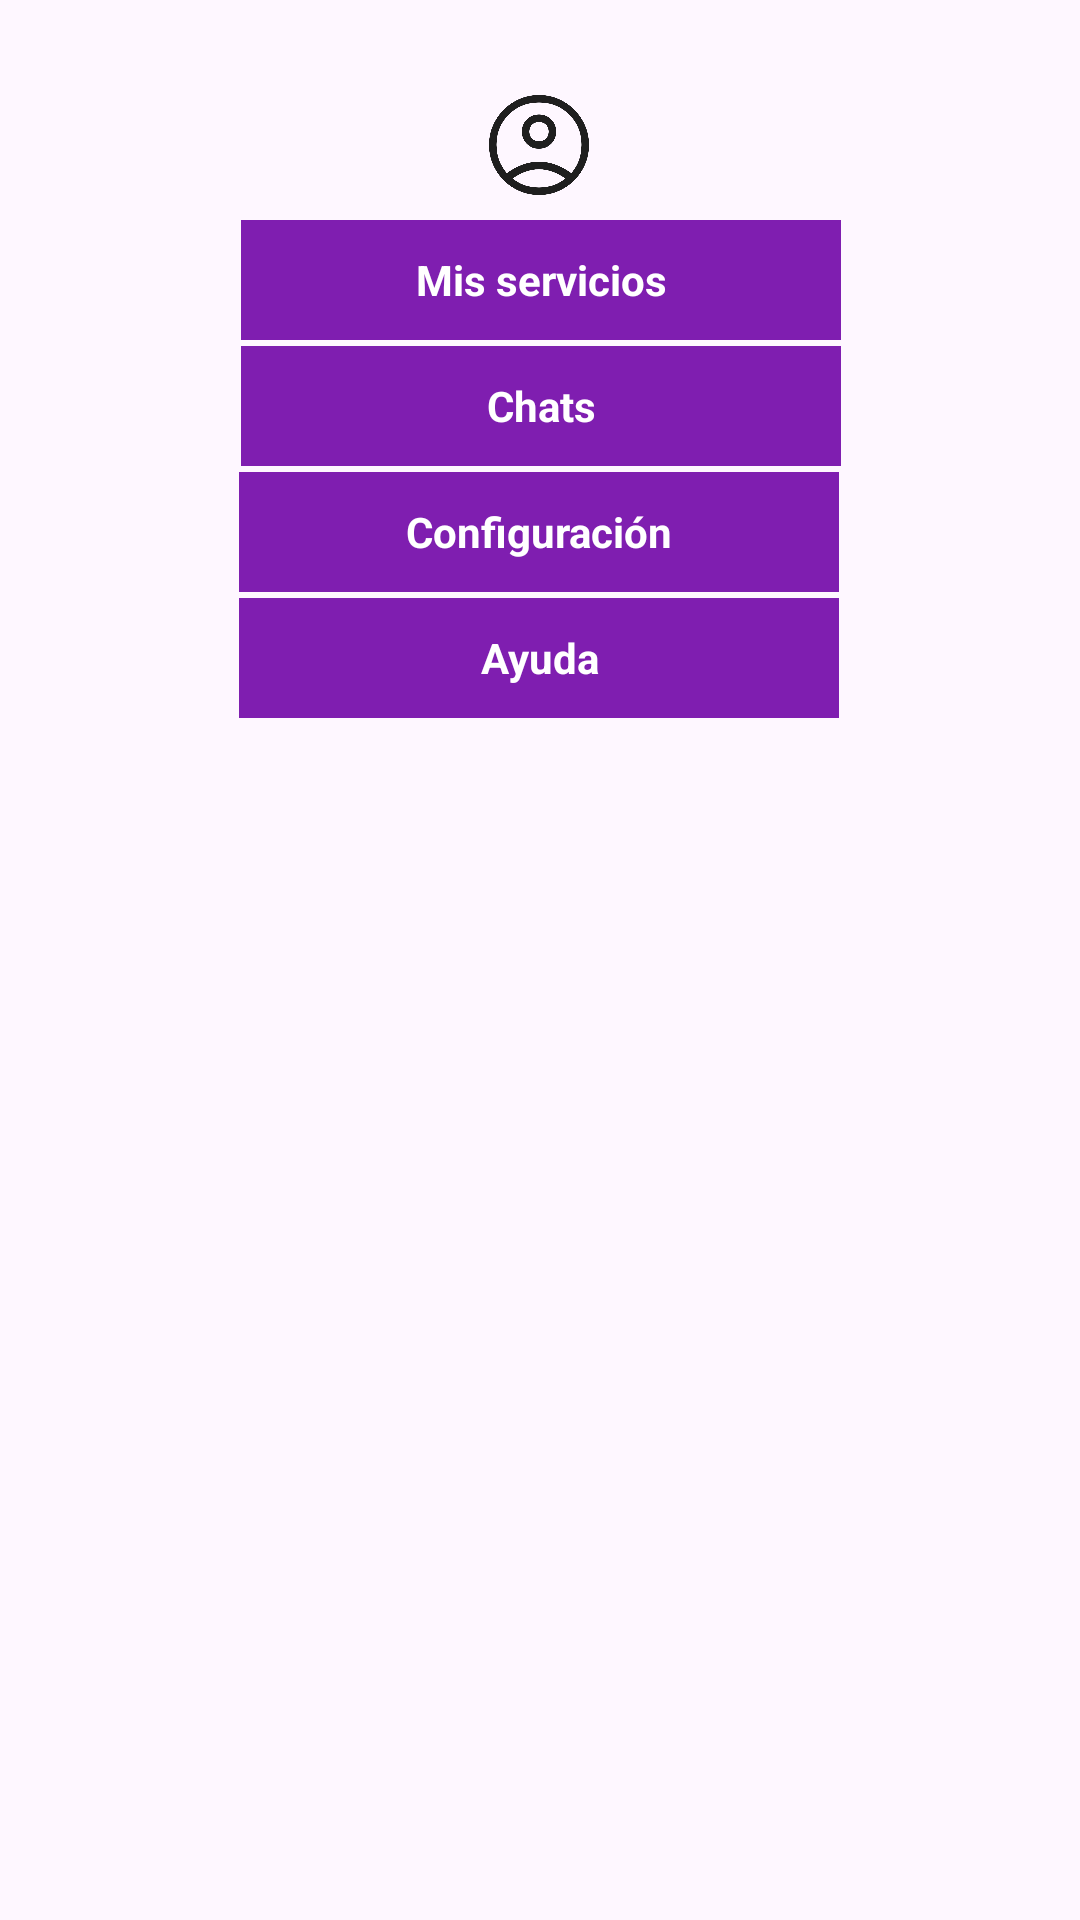

Icon click points for this 1080w x 1920h phone screenshot, format [x,y]:
usuario: [539,145]
